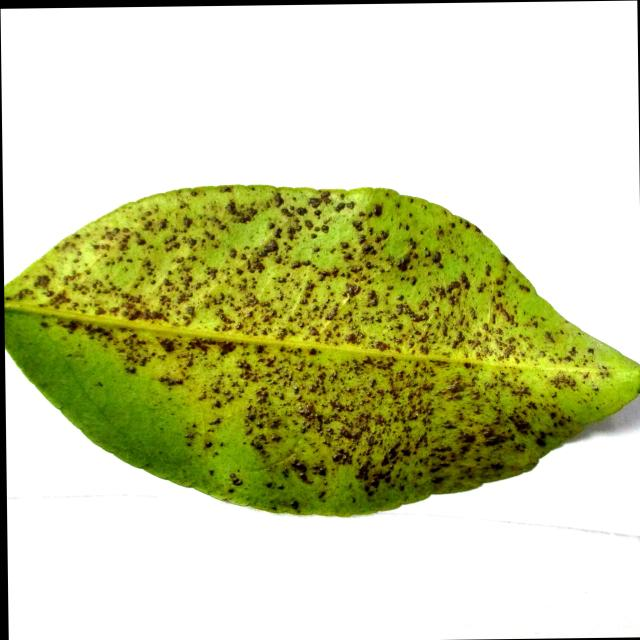melanose: (4, 185, 640, 516)
